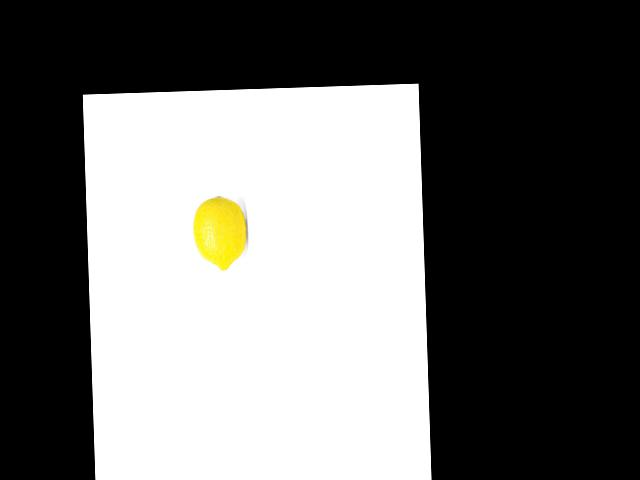lemon: (193, 191, 247, 274)
